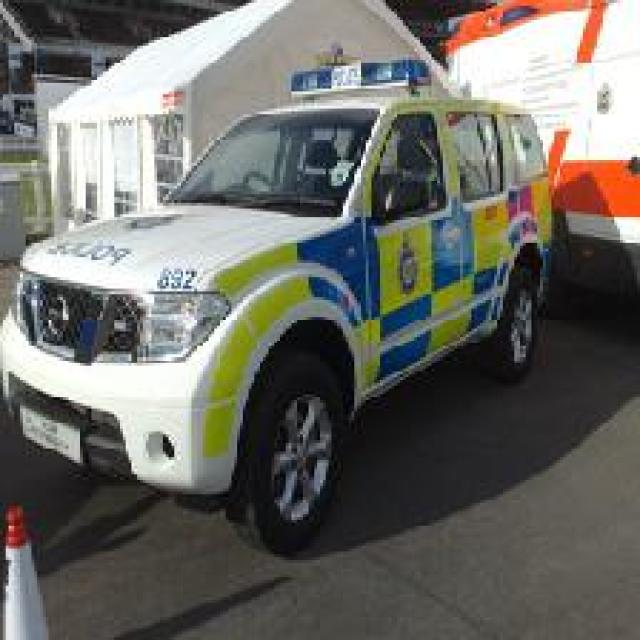Police-car: (0, 54, 554, 554)
